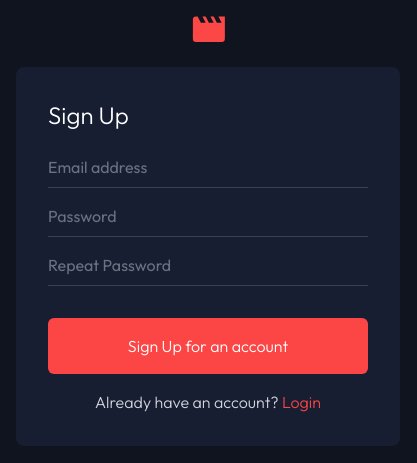
Signup › shows errors when fields are empty
This screenshot has width=417, height=463.
Click the button "Sign Up for an account" at (208, 346), box top-left (48, 318), bottom-right (368, 374)
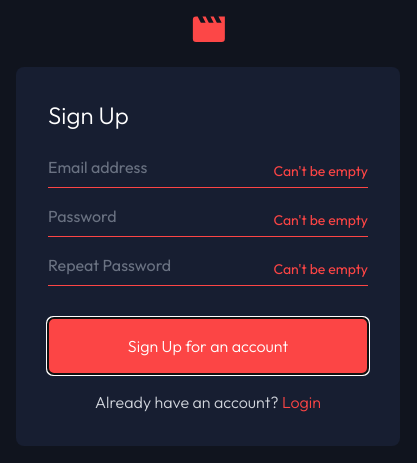
Expected: the text "Can't be empty" is shown 3 times, top-left (274, 161), bottom-right (368, 181); top-left (274, 210), bottom-right (368, 230); top-left (274, 259), bottom-right (368, 279)
